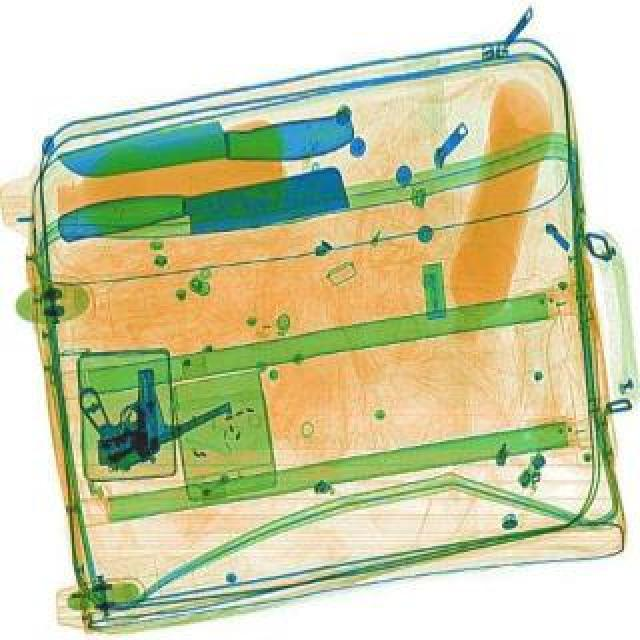gun: (60, 334, 236, 472), (90, 366, 160, 470)
knife: (52, 98, 356, 178), (50, 166, 358, 244)
